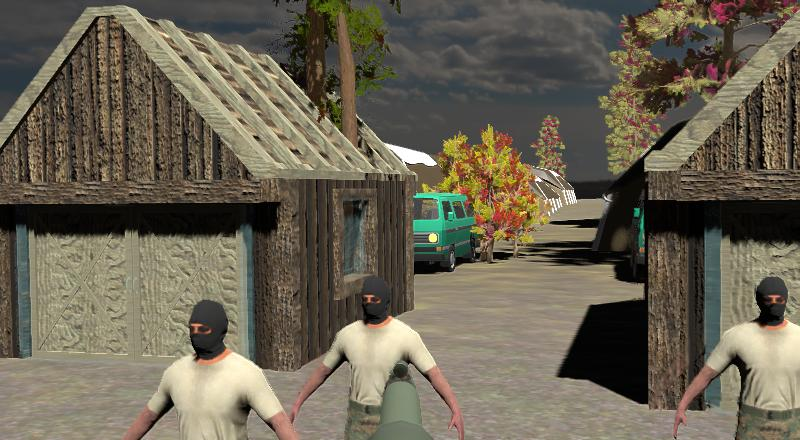House: (1, 6, 418, 371), (591, 0, 800, 400)
Human: (99, 299, 321, 440), (280, 278, 471, 440), (283, 277, 472, 440), (98, 311, 320, 440), (668, 273, 799, 440)
car: (412, 191, 477, 273)
